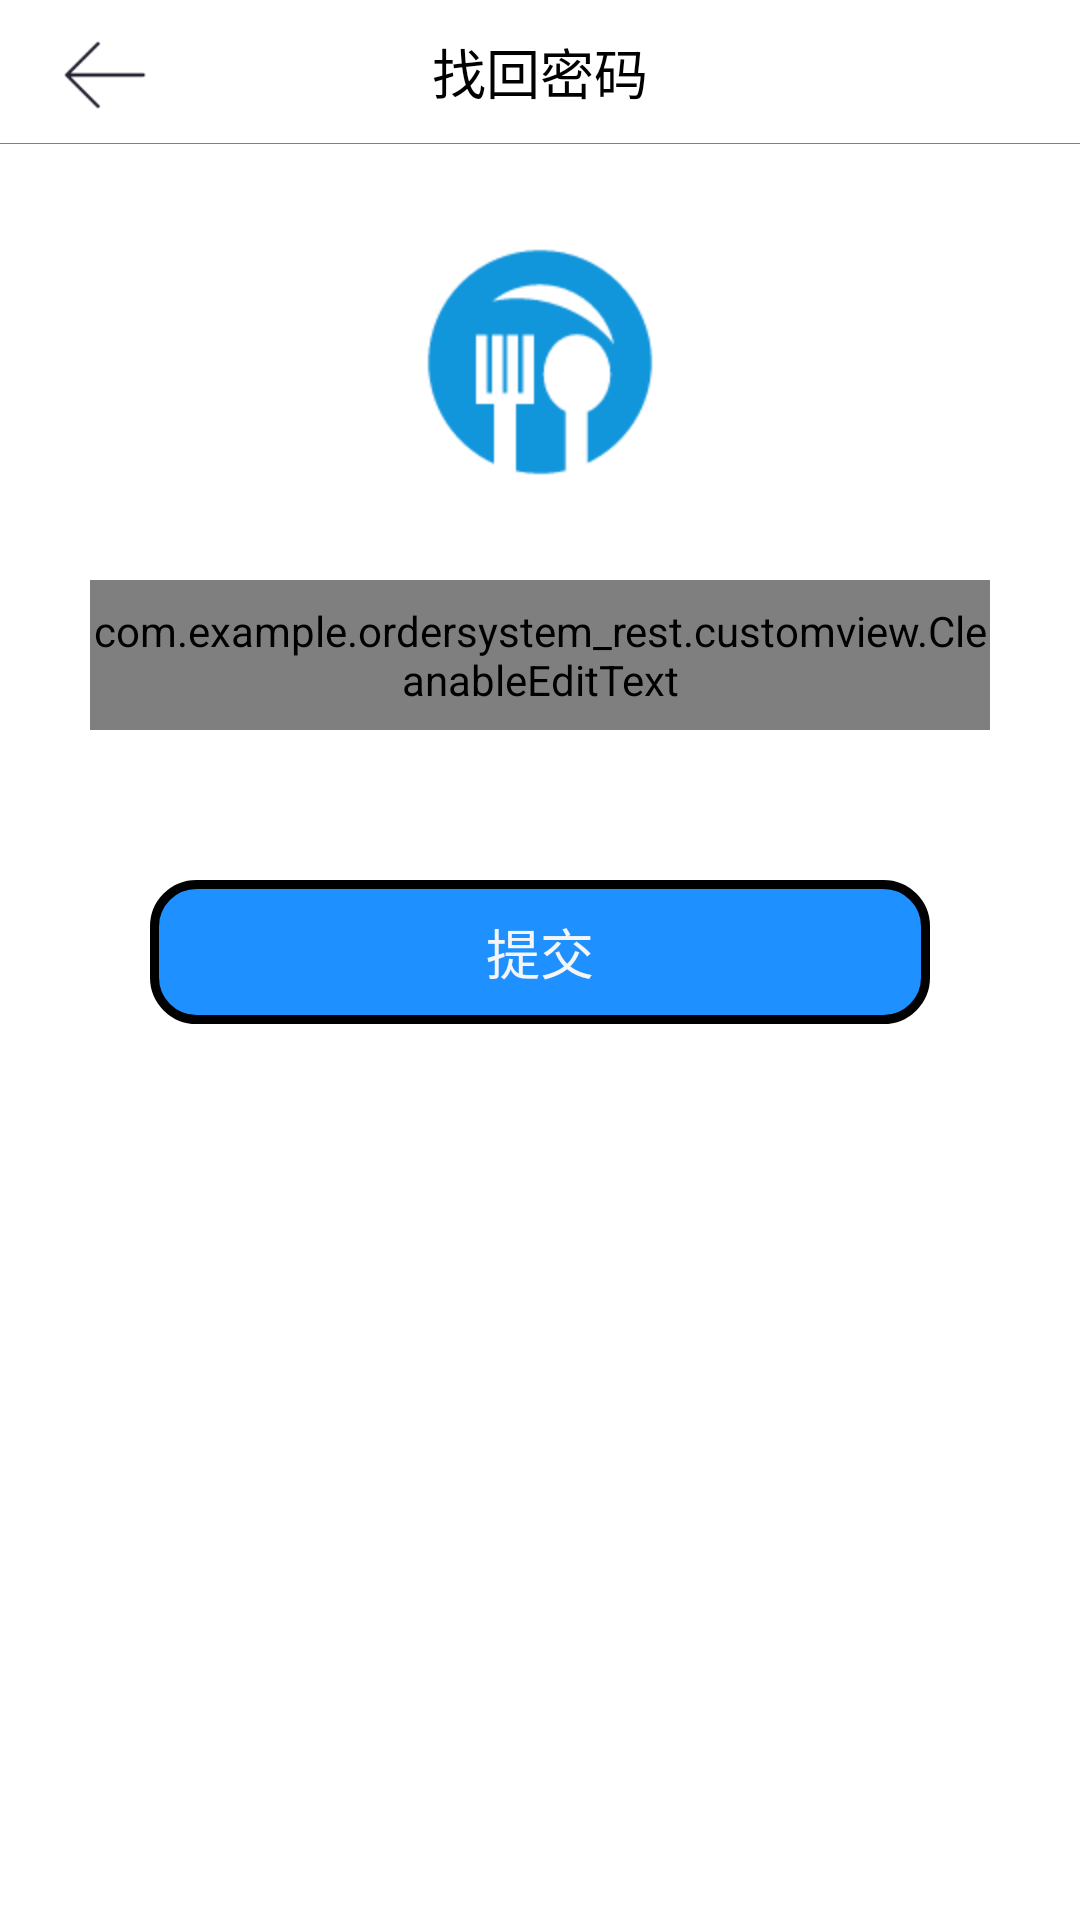

Named icons in this screenshot (1080x1920) and their bounding boxes, Rect(x1, y1, x2, y2):
app: Rect(427, 249, 653, 475)
left arrow: Rect(64, 41, 146, 109)
